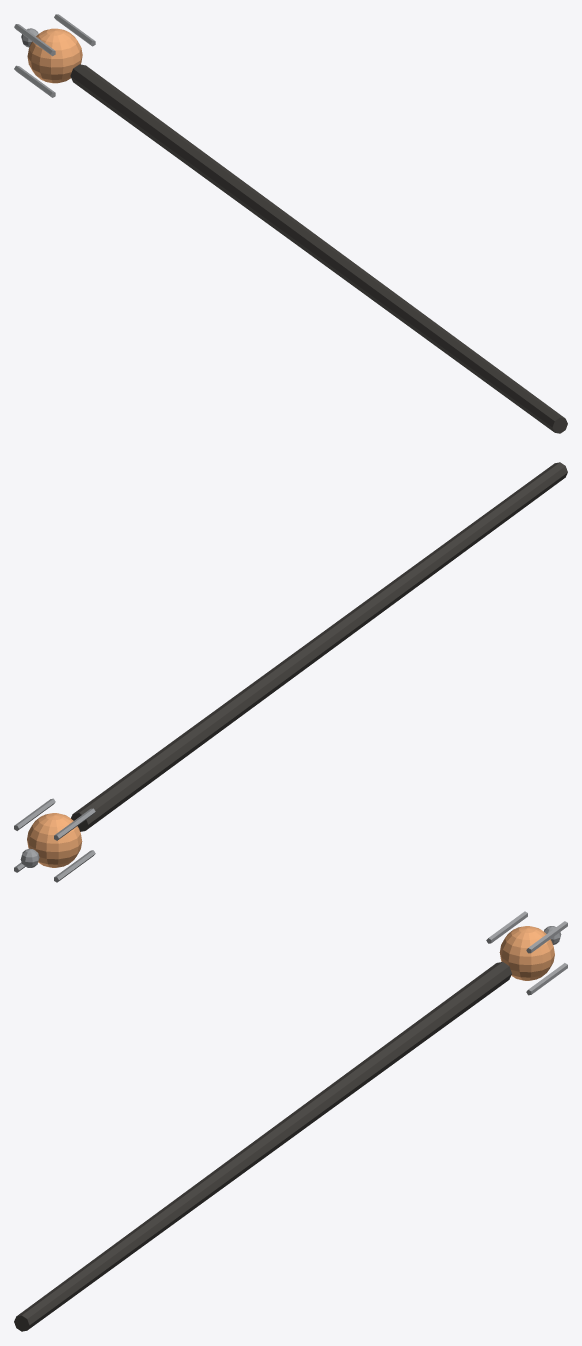
The model's file is SinStaff.fbx.
3 renders of one model, top to bottom at view 1: azimuth 30°, elevation 25°; view 2: azimuth 150°, elevation 25°; view 3: azimuth 330°, elevation 25°, orthographic.
Visible parts, largest first — view 1: SinStaff; view 2: SinStaff; view 3: SinStaff.
Part boxes in pixels (x1,y1,x2,y2): SinStaff: (14, 14, 567, 433); SinStaff: (14, 462, 567, 882); SinStaff: (14, 911, 567, 1331).
Bounding box in the file's own units: 6.8 × 6.8 × 131.
